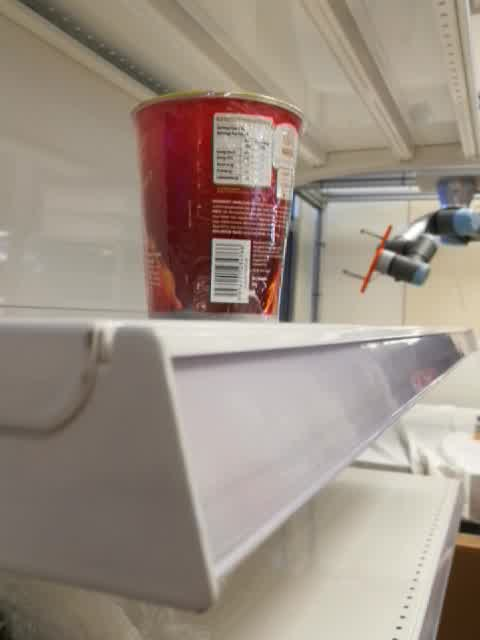maggi: (127, 89, 305, 324)
